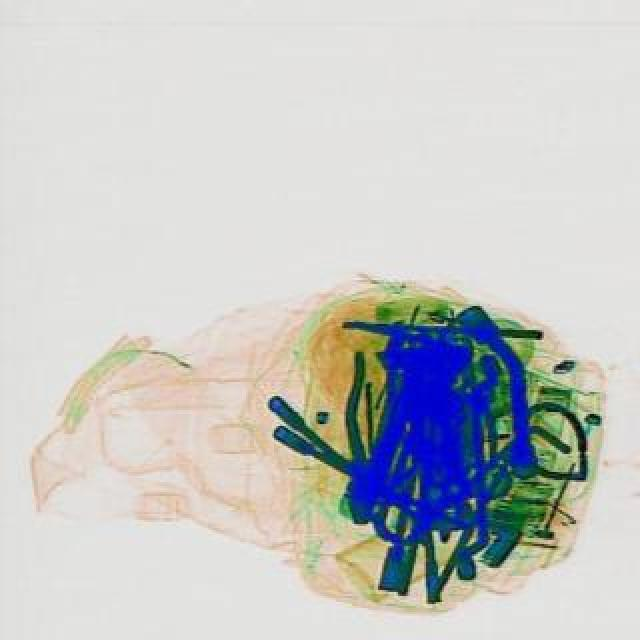wrench: (324, 346, 412, 526)
